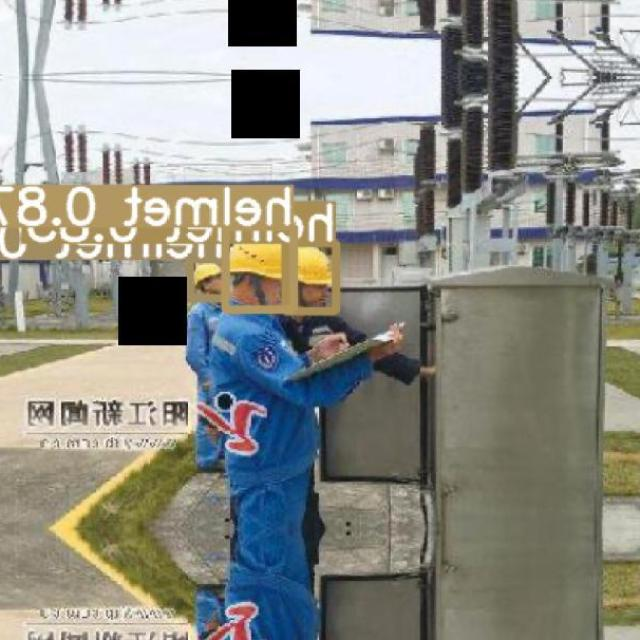helmet: (229, 242, 284, 280), (294, 246, 334, 285), (194, 262, 222, 287)
